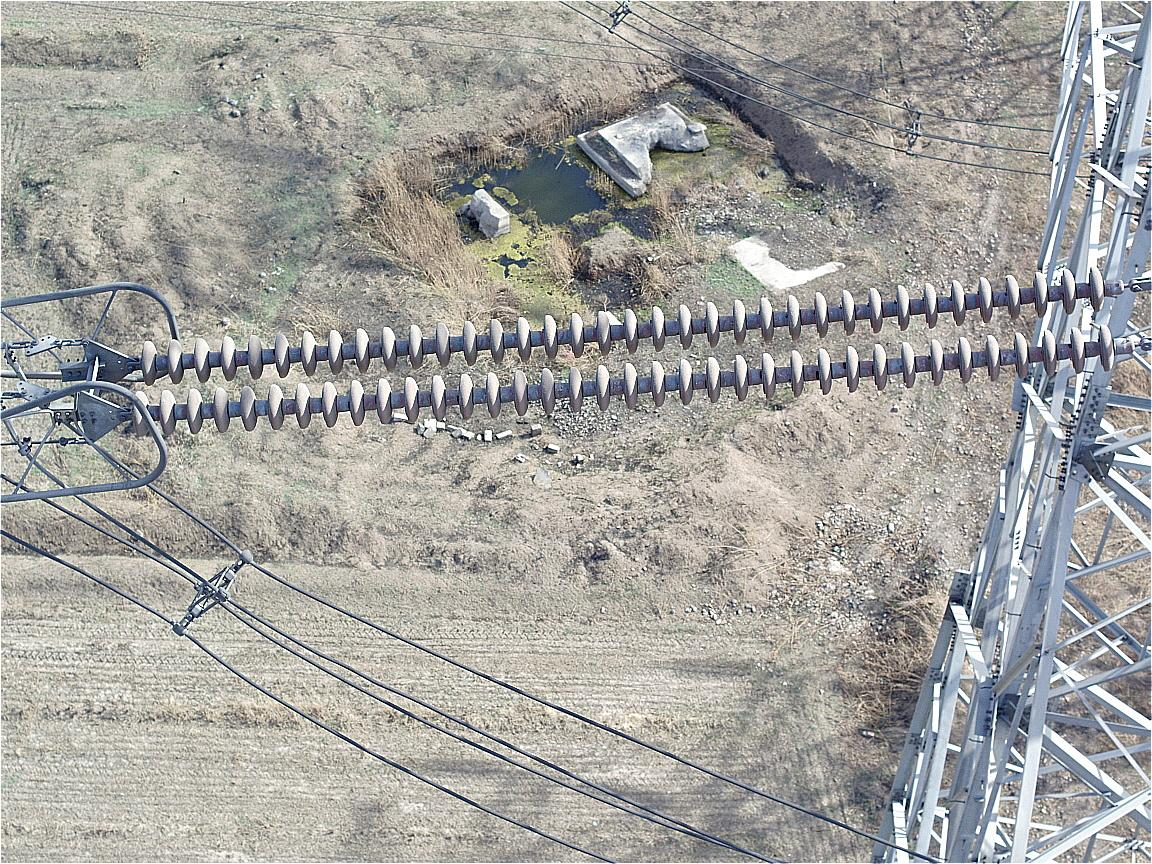insultor1: (130, 267, 1114, 439)
